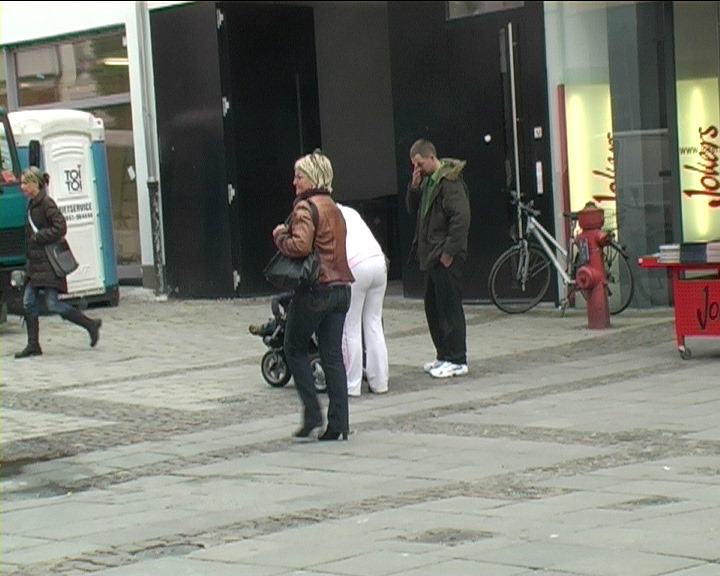deflection: (272, 150, 352, 262)
